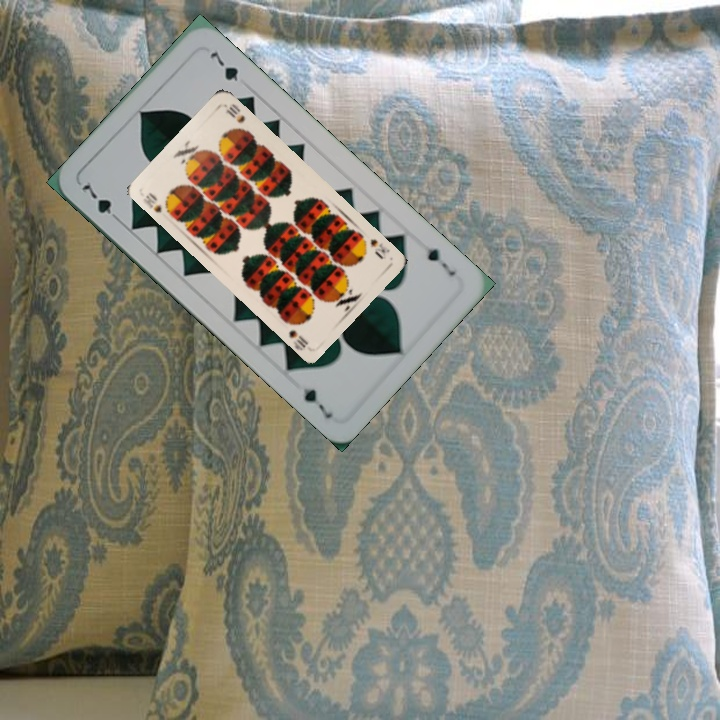G7: (77, 177, 124, 226), (423, 244, 459, 279)
S10: (139, 188, 175, 218), (366, 235, 393, 262)
